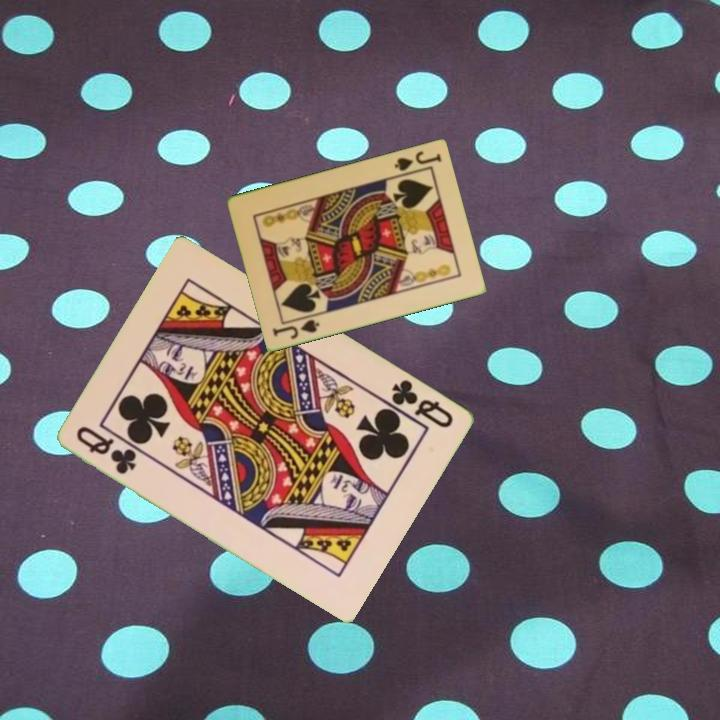Js: (269, 315, 323, 342), (391, 147, 444, 174)
Qc: (388, 375, 457, 431), (73, 422, 140, 477)
